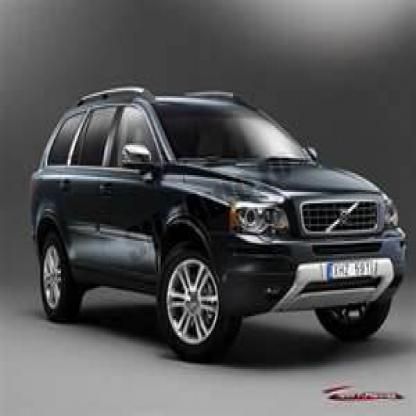Vehicle: (28, 88, 409, 369)
